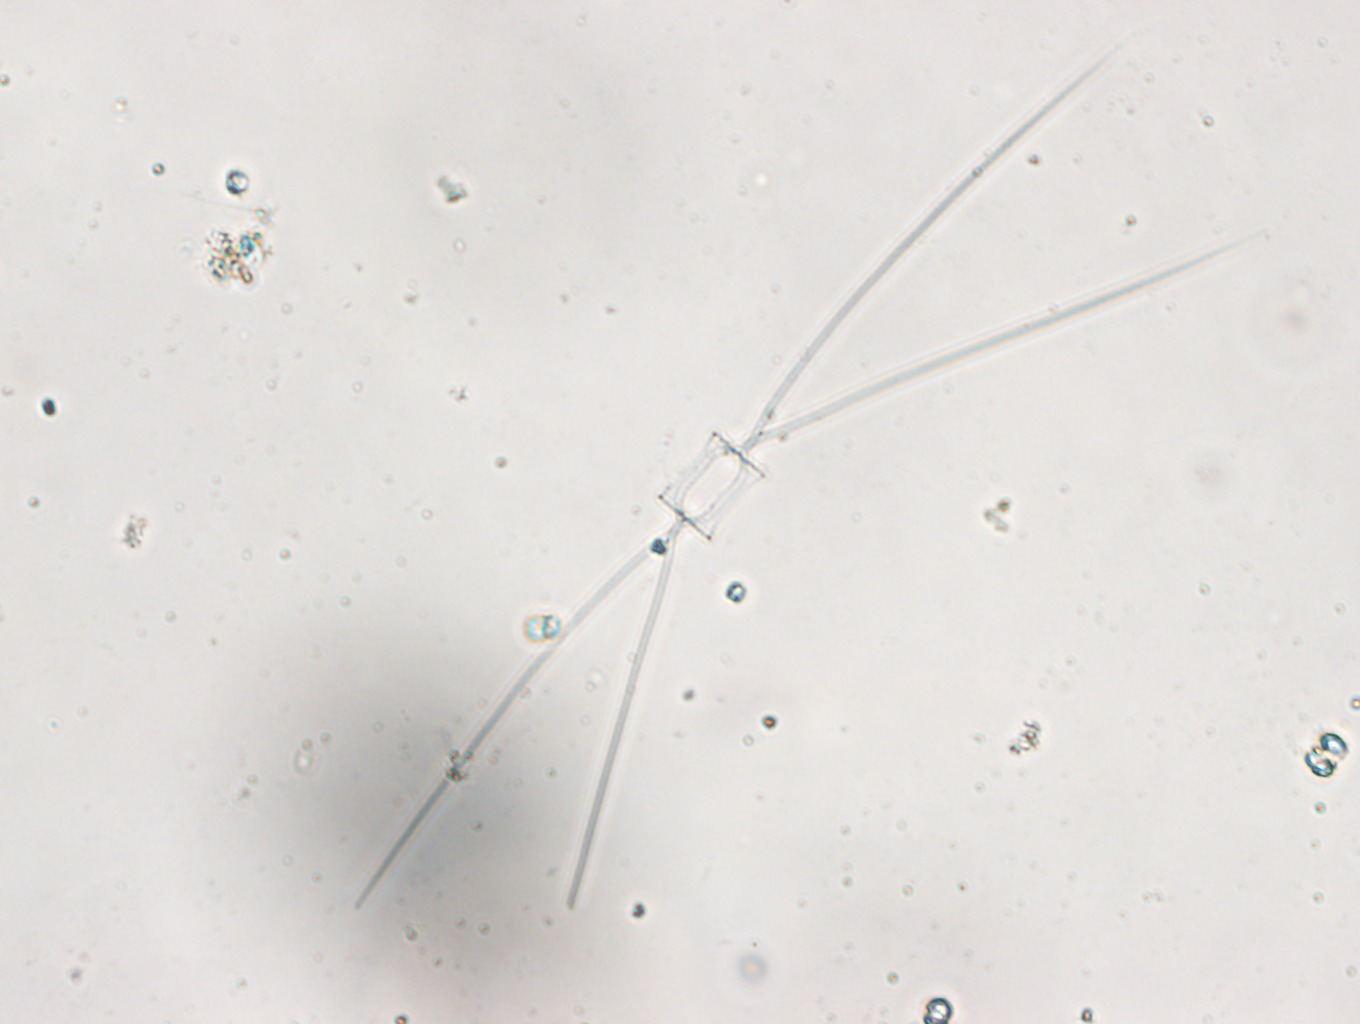chaetoceros: (355, 45, 1245, 915)
